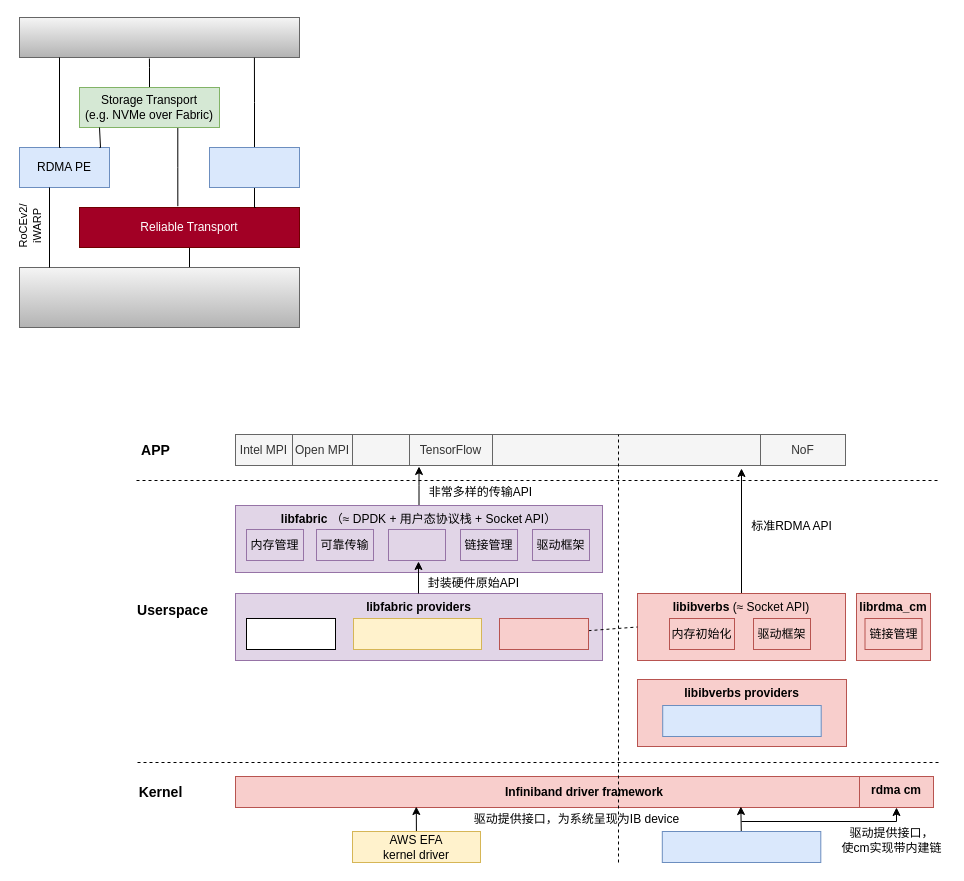
Some shapes in this 964 by 881 pixel diagram are drawn without their labels. The shapes that lost their labels are listed below. From the top down, each one's centre as x and y in pixels, then its label:
At [159,37]: "Software - Fully Compatible with Standard APIs".
At [254,167]: "Future HW-SW IF (ex. HPC)".
At [159,297]: "Layer 1/2/3 （Packet Processing, Encap/Decap, MAC+PHY, etc）".
At [381,450]: "SHMEM".
At [626,450]: "PMDK、rsockets、NCCL".
At [417,544]: "语义实现".
At [291,634]: "socket API （TCP、UDP）".
At [417,634]: "AWS EFA userspace driver".
At [543,634]: "libibverbs".
At [741,720]: "MLX userspace driver".
At [741,846]: "MLX kernel driver".
